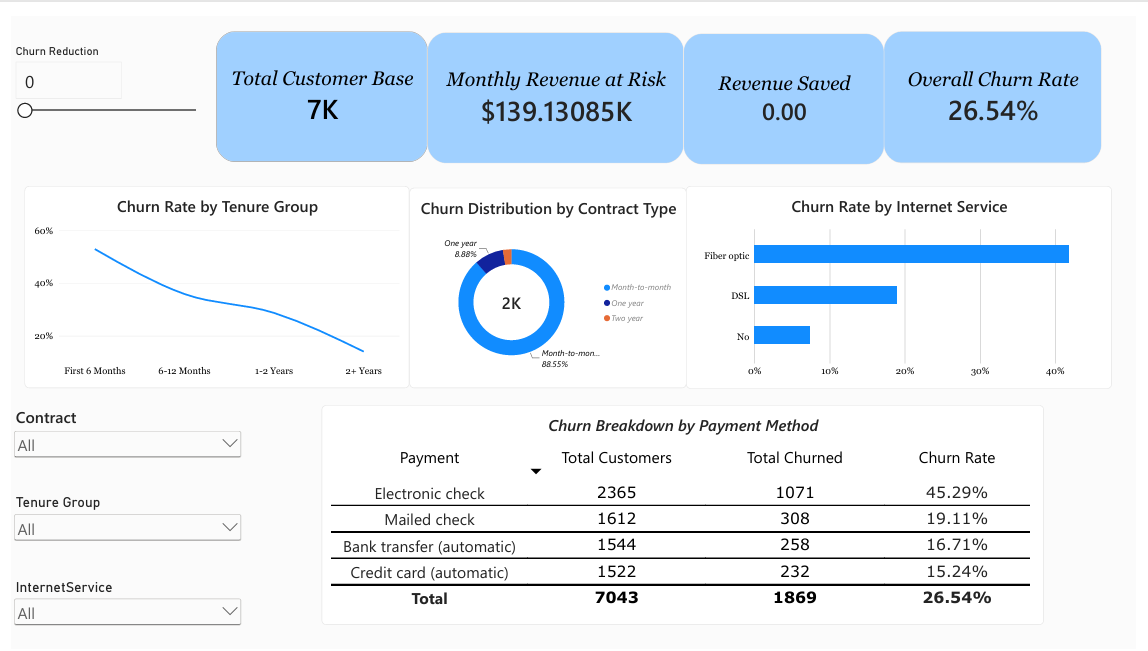

The dashboard page shown, as its layout file describes it:
{"tool":"powerbi","page":{"name":"Main Page","canvas":[1920,1080],"ordinal":0},"visuals":[{"type":"donutChart","title":"Churn Distribution by Contract Type","fields":{"Category":["Dim_Contract.Contract"],"Y":["_Measures.Total Churned"]},"box":[680,292.5,472.5,342.5],"z":0},{"type":"clusteredBarChart","title":"Churn Rate by Internet Service","fields":{"Category":["Dim_Services.InternetService"],"Y":["_Measures.Churn Rate %"]},"box":[1152,289.5,726.8,346.2],"z":1000},{"type":"pivotTable","title":"Churn Breakdown by Payment Method","fields":{"Rows":["Dim_Contract.PaymentMethod"],"Values":["_Measures.Total Customers","_Measures.Total Churned","_Measures.Churn Rate %"]},"box":[530.4,664.1,1233,374.6],"z":2000},{"type":"cardVisual","fields":{"Data":["_Measures.Total Customers"]},"box":[350.3,26.3,360.4,222.7],"z":3000},{"type":"cardVisual","fields":{"Data":["_Measures.Churn Rate %"]},"box":[1490.1,26.3,370.5,224.7],"z":4000},{"type":"cardVisual","fields":{"Data":["_Measures.Monthly Revenue Lost"]},"box":[710.6,28.3,437.3,222.7],"z":5000},{"type":"slicer","fields":{"Values":["Target Churn Reduction.Target Churn Reduction"]},"box":[0,48.6,334.1,186.3],"z":6000},{"type":"lineChart","fields":{"Category":["Fact_Churn.Tenure Group"],"Y":["_Measures.Churn Rate %"]},"box":[22.5,290,657.5,345],"z":7000},{"type":"cardVisual","fields":{"Data":["_Measures.Revenue Saved"]},"box":[1148,30.4,342.5,222.5],"z":8000},{"type":"slicer","fields":{"Values":["Dim_Contract.Contract"]},"box":[0,665,397.5,105],"z":9000},{"type":"slicer","fields":{"Values":["Fact_Churn.Tenure Group"]},"box":[0,816,398.4,93.6],"z":10000},{"type":"slicer","fields":{"Values":["Dim_Services.InternetService"]},"box":[0,960,398.4,103.2],"z":11000}]}

Visuals, with their boxes in screenshot pixels (x1, y1, x2, y2), scaled from the page's 1920x1080 canvas onto the 1148x651 screenshot:
"Churn Distribution by Contract Type" donutChart: {"x1": 407, "y1": 176, "x2": 689, "y2": 383}
"Churn Rate by Internet Service" clusteredBarChart: {"x1": 689, "y1": 175, "x2": 1123, "y2": 383}
"Churn Breakdown by Payment Method" pivotTable: {"x1": 317, "y1": 400, "x2": 1054, "y2": 626}
cardVisual - _Measures.Total Customers: {"x1": 209, "y1": 16, "x2": 425, "y2": 150}
cardVisual - _Measures.Churn Rate %: {"x1": 891, "y1": 16, "x2": 1112, "y2": 151}
cardVisual - _Measures.Monthly Revenue Lost: {"x1": 425, "y1": 17, "x2": 686, "y2": 151}
slicer - Target Churn Reduction.Target Churn Reduction: {"x1": 0, "y1": 29, "x2": 200, "y2": 142}
lineChart - Fact_Churn.Tenure Group x _Measures.Churn Rate %: {"x1": 13, "y1": 175, "x2": 407, "y2": 383}
cardVisual - _Measures.Revenue Saved: {"x1": 686, "y1": 18, "x2": 891, "y2": 152}
slicer - Dim_Contract.Contract: {"x1": 0, "y1": 401, "x2": 238, "y2": 464}
slicer - Fact_Churn.Tenure Group: {"x1": 0, "y1": 492, "x2": 238, "y2": 548}
slicer - Dim_Services.InternetService: {"x1": 0, "y1": 579, "x2": 238, "y2": 641}
